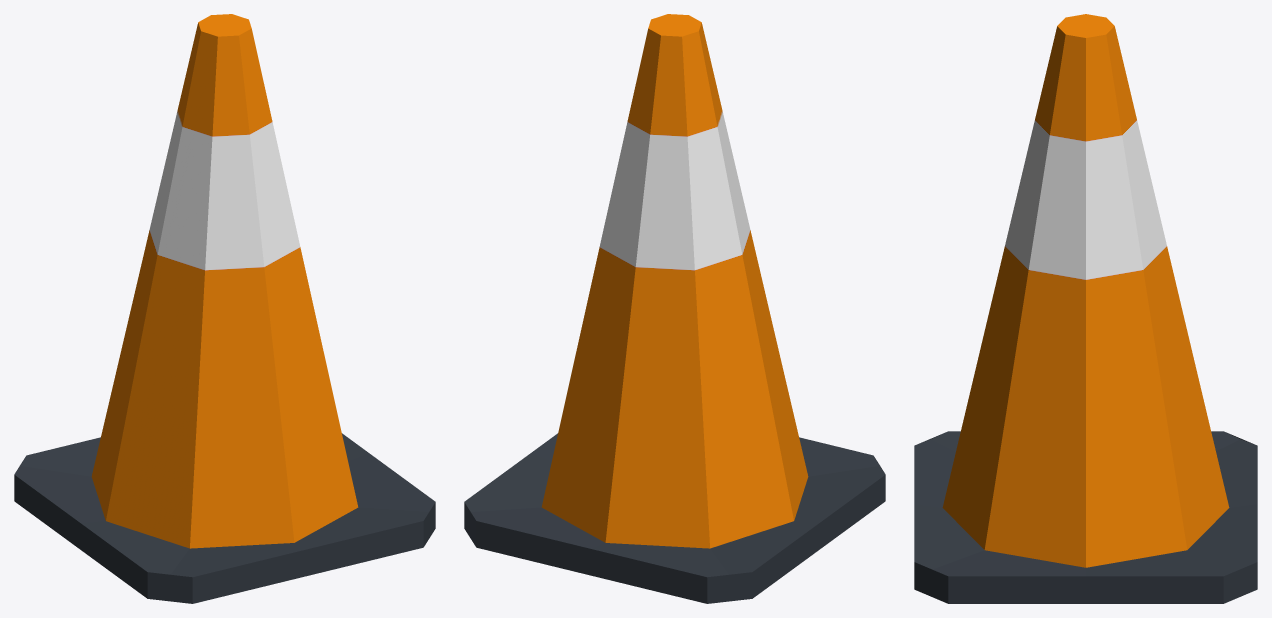
Rendered from WitchesHat.fbx.
3 renders of one model, left to right at view 1: azimuth 30°, elevation 25°; view 2: azimuth 150°, elevation 25°; view 3: azimuth 270°, elevation 25°, orthographic. The views are drawn at different scales.
Parts seen in each view (by area): view 1: pCylinder1; view 2: pCylinder1; view 3: pCylinder1.
Part boxes in pixels (x1,y1,x2,y2): pCylinder1: [14, 14, 435, 603]; pCylinder1: [464, 14, 885, 603]; pCylinder1: [914, 14, 1257, 603].
Size of the model in its own units: 1.75 by 2.84 by 1.75.
Materials: 1 (1 with a texture image).
